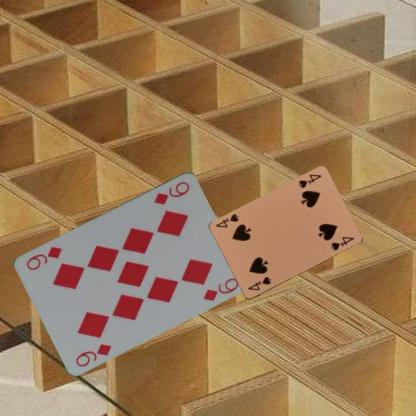4s: (245, 274, 272, 292), (296, 172, 322, 190)
9d: (151, 178, 191, 206), (73, 340, 113, 368)
